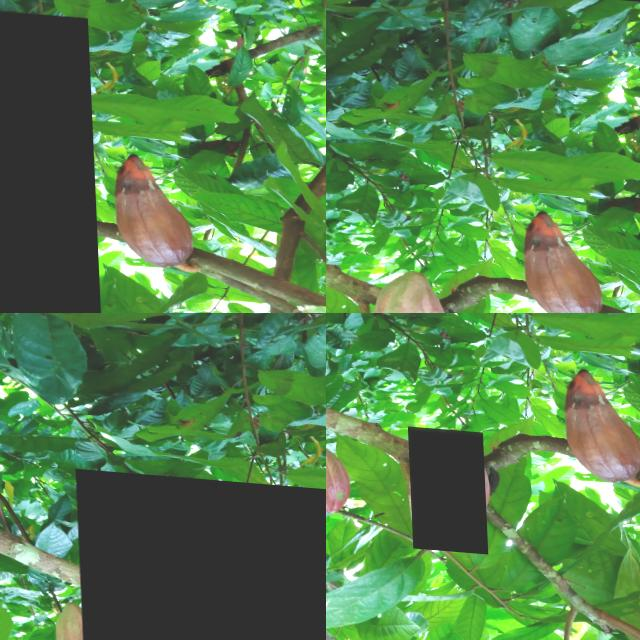Fitoftora: (559, 362, 640, 475)
Monilia: (74, 466, 326, 640)
Sana: (0, 0, 101, 313), (405, 422, 484, 549), (326, 442, 348, 513)
